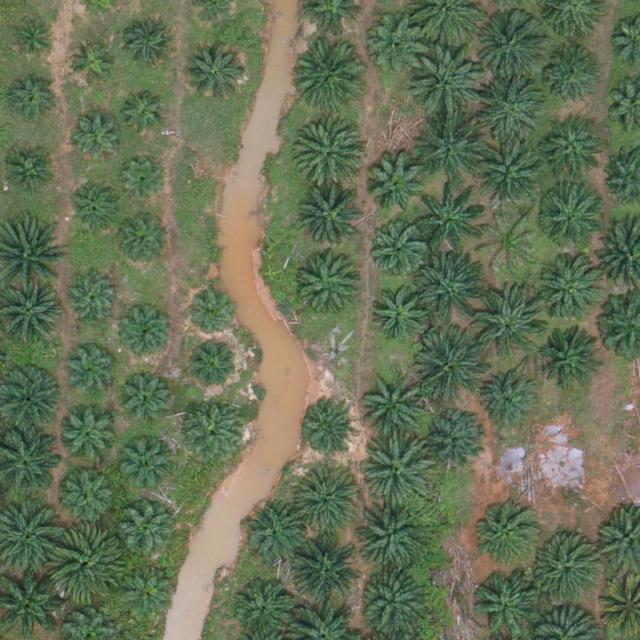Dead: (480, 209, 543, 272)
Healthy: (361, 565, 432, 636), (416, 332, 487, 403), (410, 49, 481, 120), (355, 505, 426, 576), (295, 39, 366, 110), (526, 536, 596, 607), (538, 254, 608, 325), (476, 73, 546, 144), (477, 144, 547, 215), (472, 497, 542, 568), (415, 182, 485, 253), (417, 110, 487, 181), (362, 365, 432, 436), (291, 533, 361, 604), (292, 465, 362, 536), (297, 185, 367, 256), (293, 116, 363, 187), (481, 9, 551, 80), (474, 288, 544, 358), (417, 253, 487, 323), (365, 437, 435, 507), (52, 528, 122, 598), (422, 408, 485, 471), (299, 253, 362, 316), (182, 398, 245, 461), (541, 122, 603, 185), (537, 185, 599, 248), (364, 153, 427, 215), (366, 220, 428, 283), (369, 280, 431, 343), (184, 43, 246, 106), (115, 436, 177, 499), (245, 503, 307, 566), (539, 328, 601, 390), (478, 374, 540, 436), (59, 465, 121, 527), (61, 405, 123, 467), (366, 14, 428, 76), (543, 49, 598, 104), (6, 74, 61, 129), (69, 109, 124, 164), (68, 181, 123, 236), (113, 213, 168, 268), (64, 273, 119, 328), (122, 564, 177, 619), (120, 506, 175, 561), (65, 344, 120, 399), (117, 368, 172, 423), (123, 17, 178, 72), (300, 399, 354, 454), (120, 309, 174, 364), (187, 338, 241, 393)
Small: (121, 158, 168, 206), (67, 41, 114, 88), (122, 93, 169, 140), (189, 292, 236, 339), (10, 17, 57, 64)
